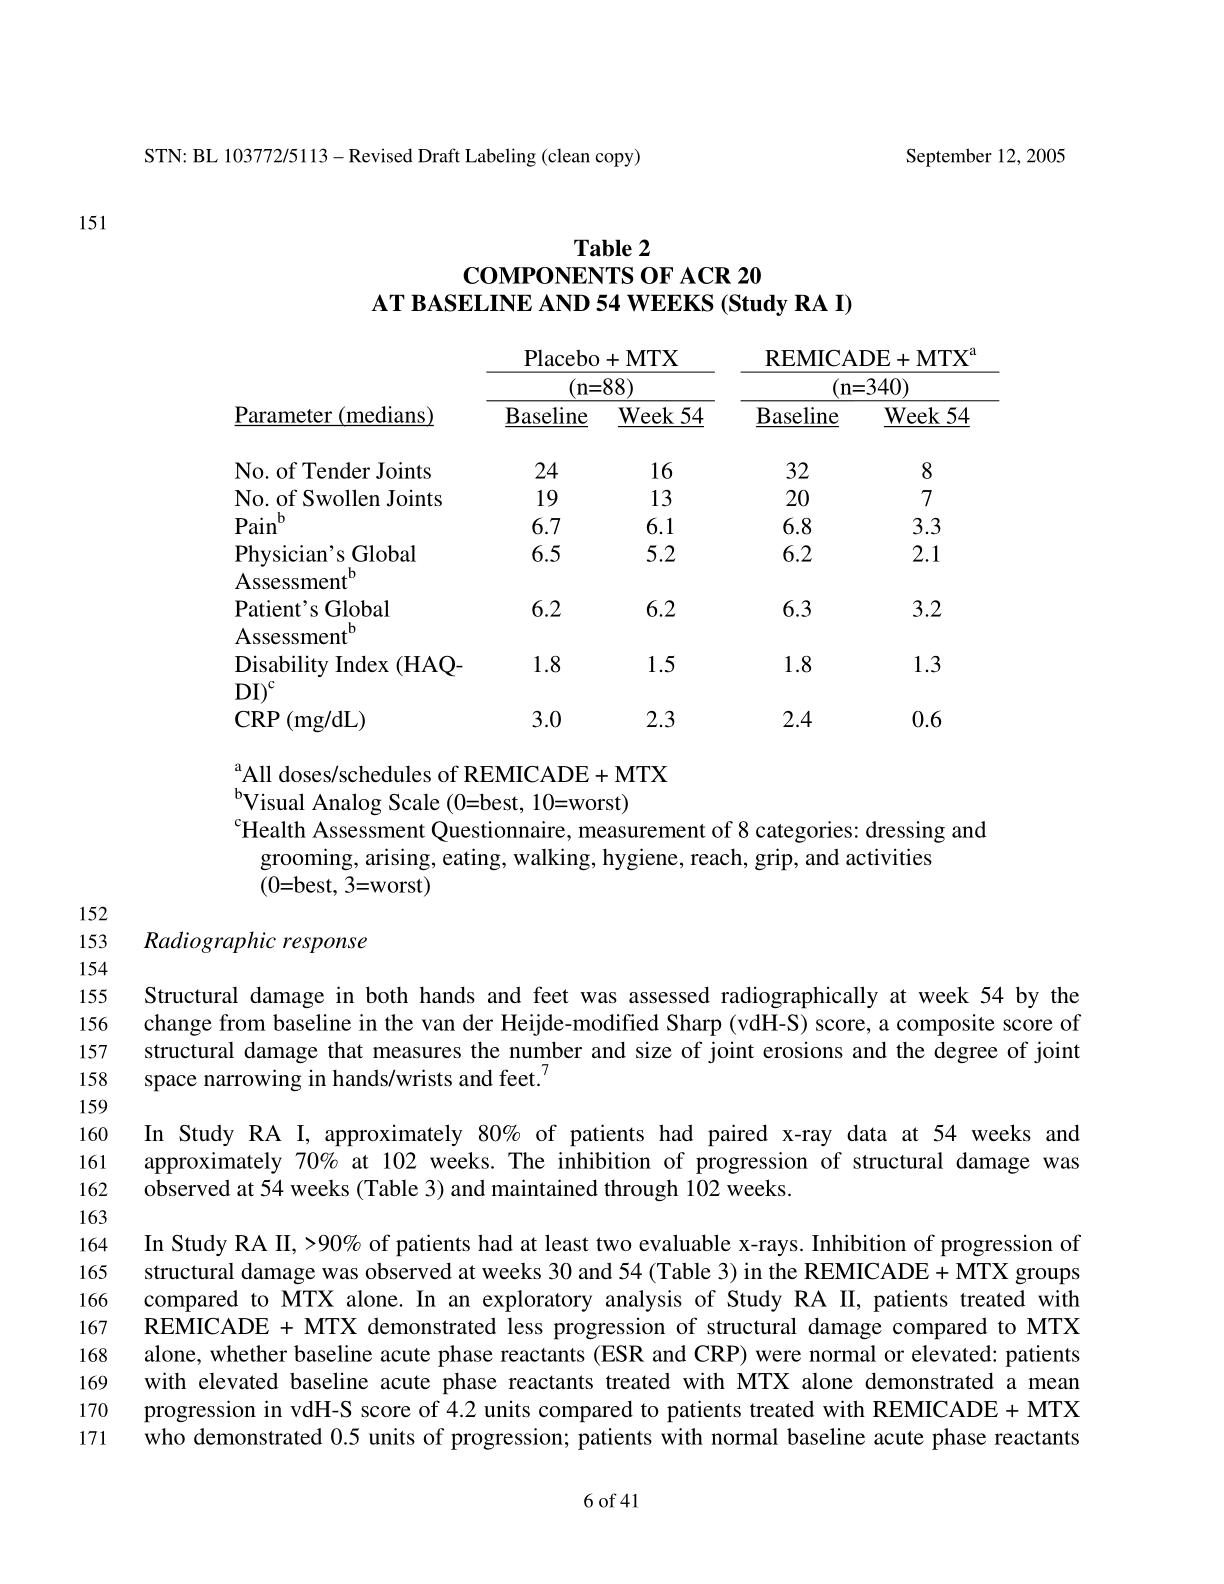partial_lined_merged_cells: (228, 345, 1003, 734)
